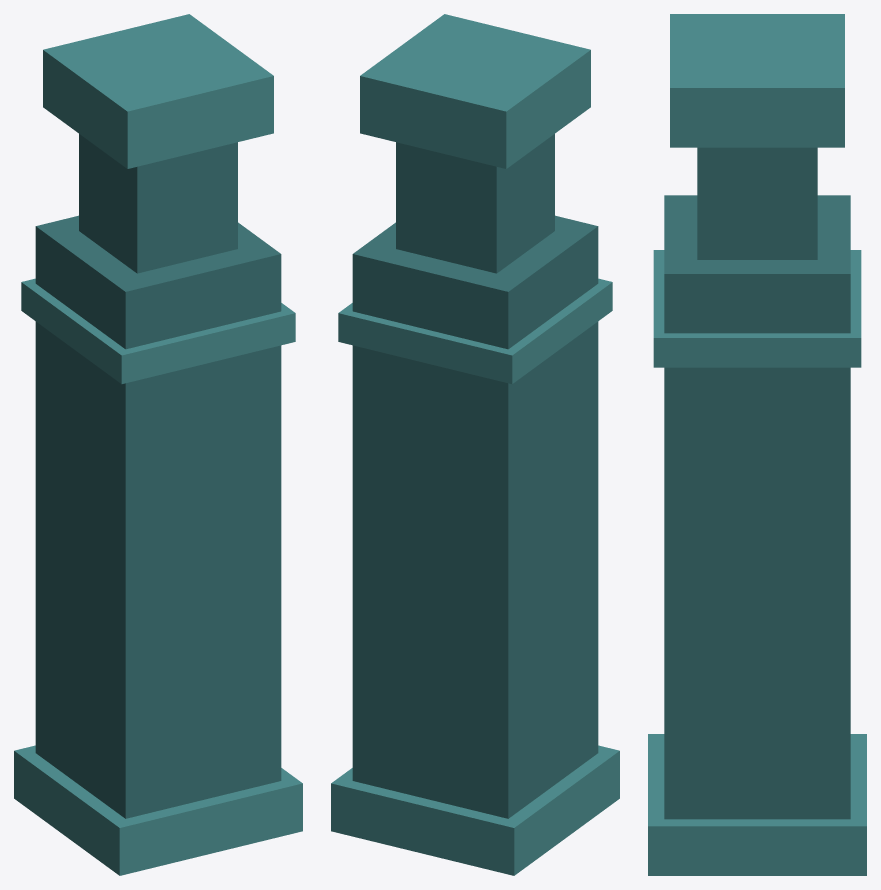
The model's file is tall_jar.glb.
The picture shows the model from 3 angles, left to right: view 1: azimuth 30°, elevation 25°; view 2: azimuth 150°, elevation 25°; view 3: azimuth 270°, elevation 25°; orthographic projection. The views are drawn at different scales.
Visible parts, largest first — view 1: tall_jar; view 2: tall_jar; view 3: tall_jar.
Boxes of the visible parts, x1=… form: tall_jar: x1=14, y1=14, x2=302, y2=875; tall_jar: x1=331, y1=14, x2=619, y2=875; tall_jar: x1=648, y1=14, x2=866, y2=875.
Size of the model in its own units: 0.4 by 1.57 by 0.4.
